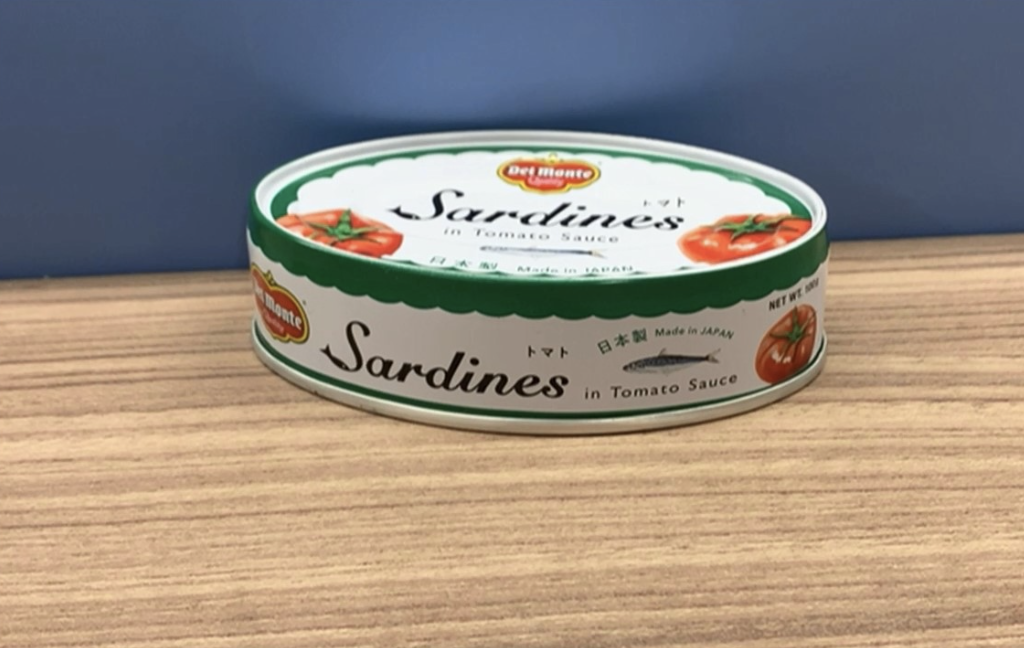sardines_150g: (272, 161, 813, 406)
